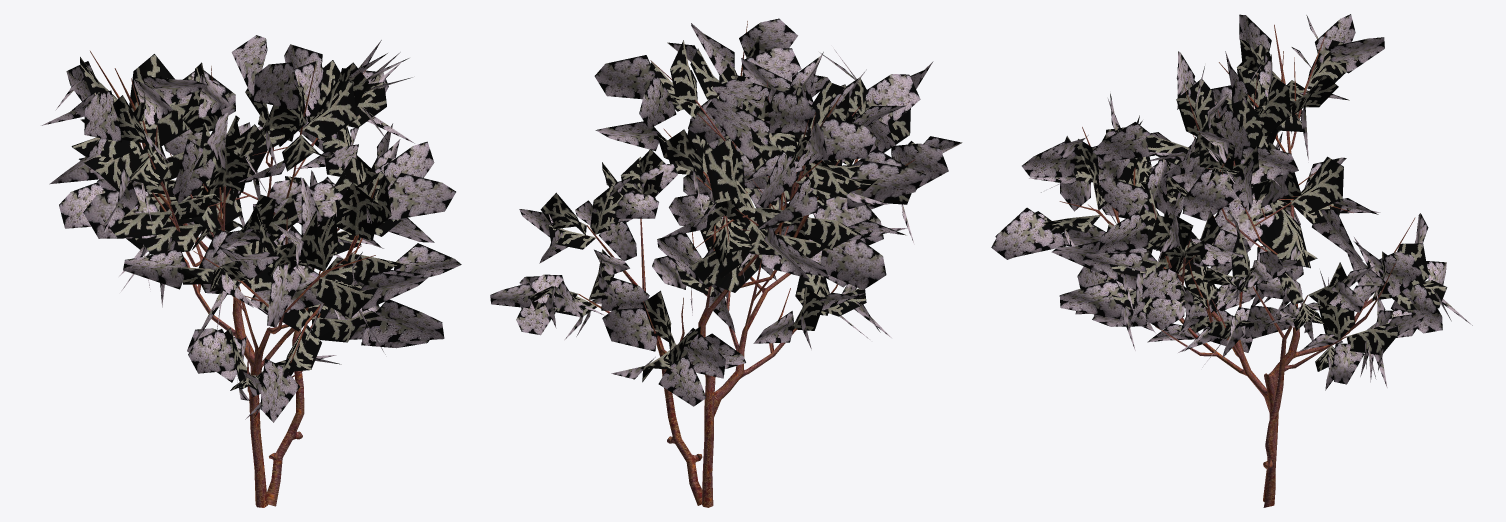
The model's file is pal_b00_tree_cherry_M_A_144ce3.glb.
The picture shows the model from 3 angles, left to right: view 1: azimuth 30°, elevation 25°; view 2: azimuth 150°, elevation 25°; view 3: azimuth 270°, elevation 25°; orthographic projection. The views are drawn at different scales.
Size of the model in its own units: 6.01 by 7.32 by 7.52.
Materials: 2 (2 with a texture image).
